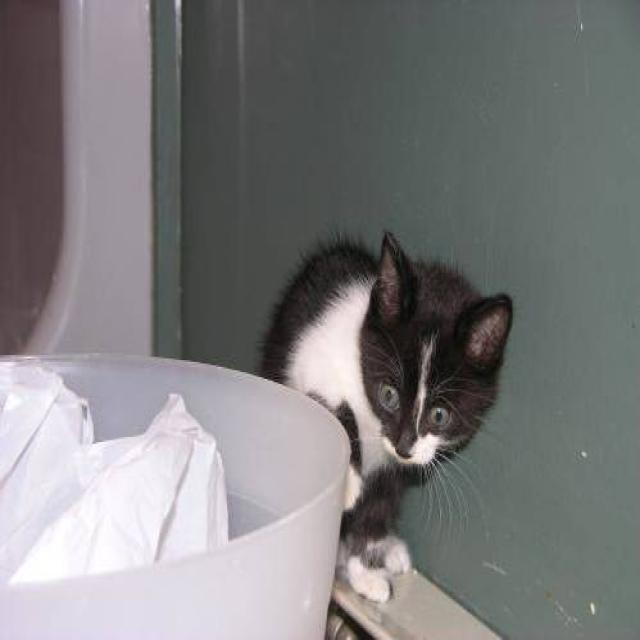Cat: (358, 240, 522, 489)
